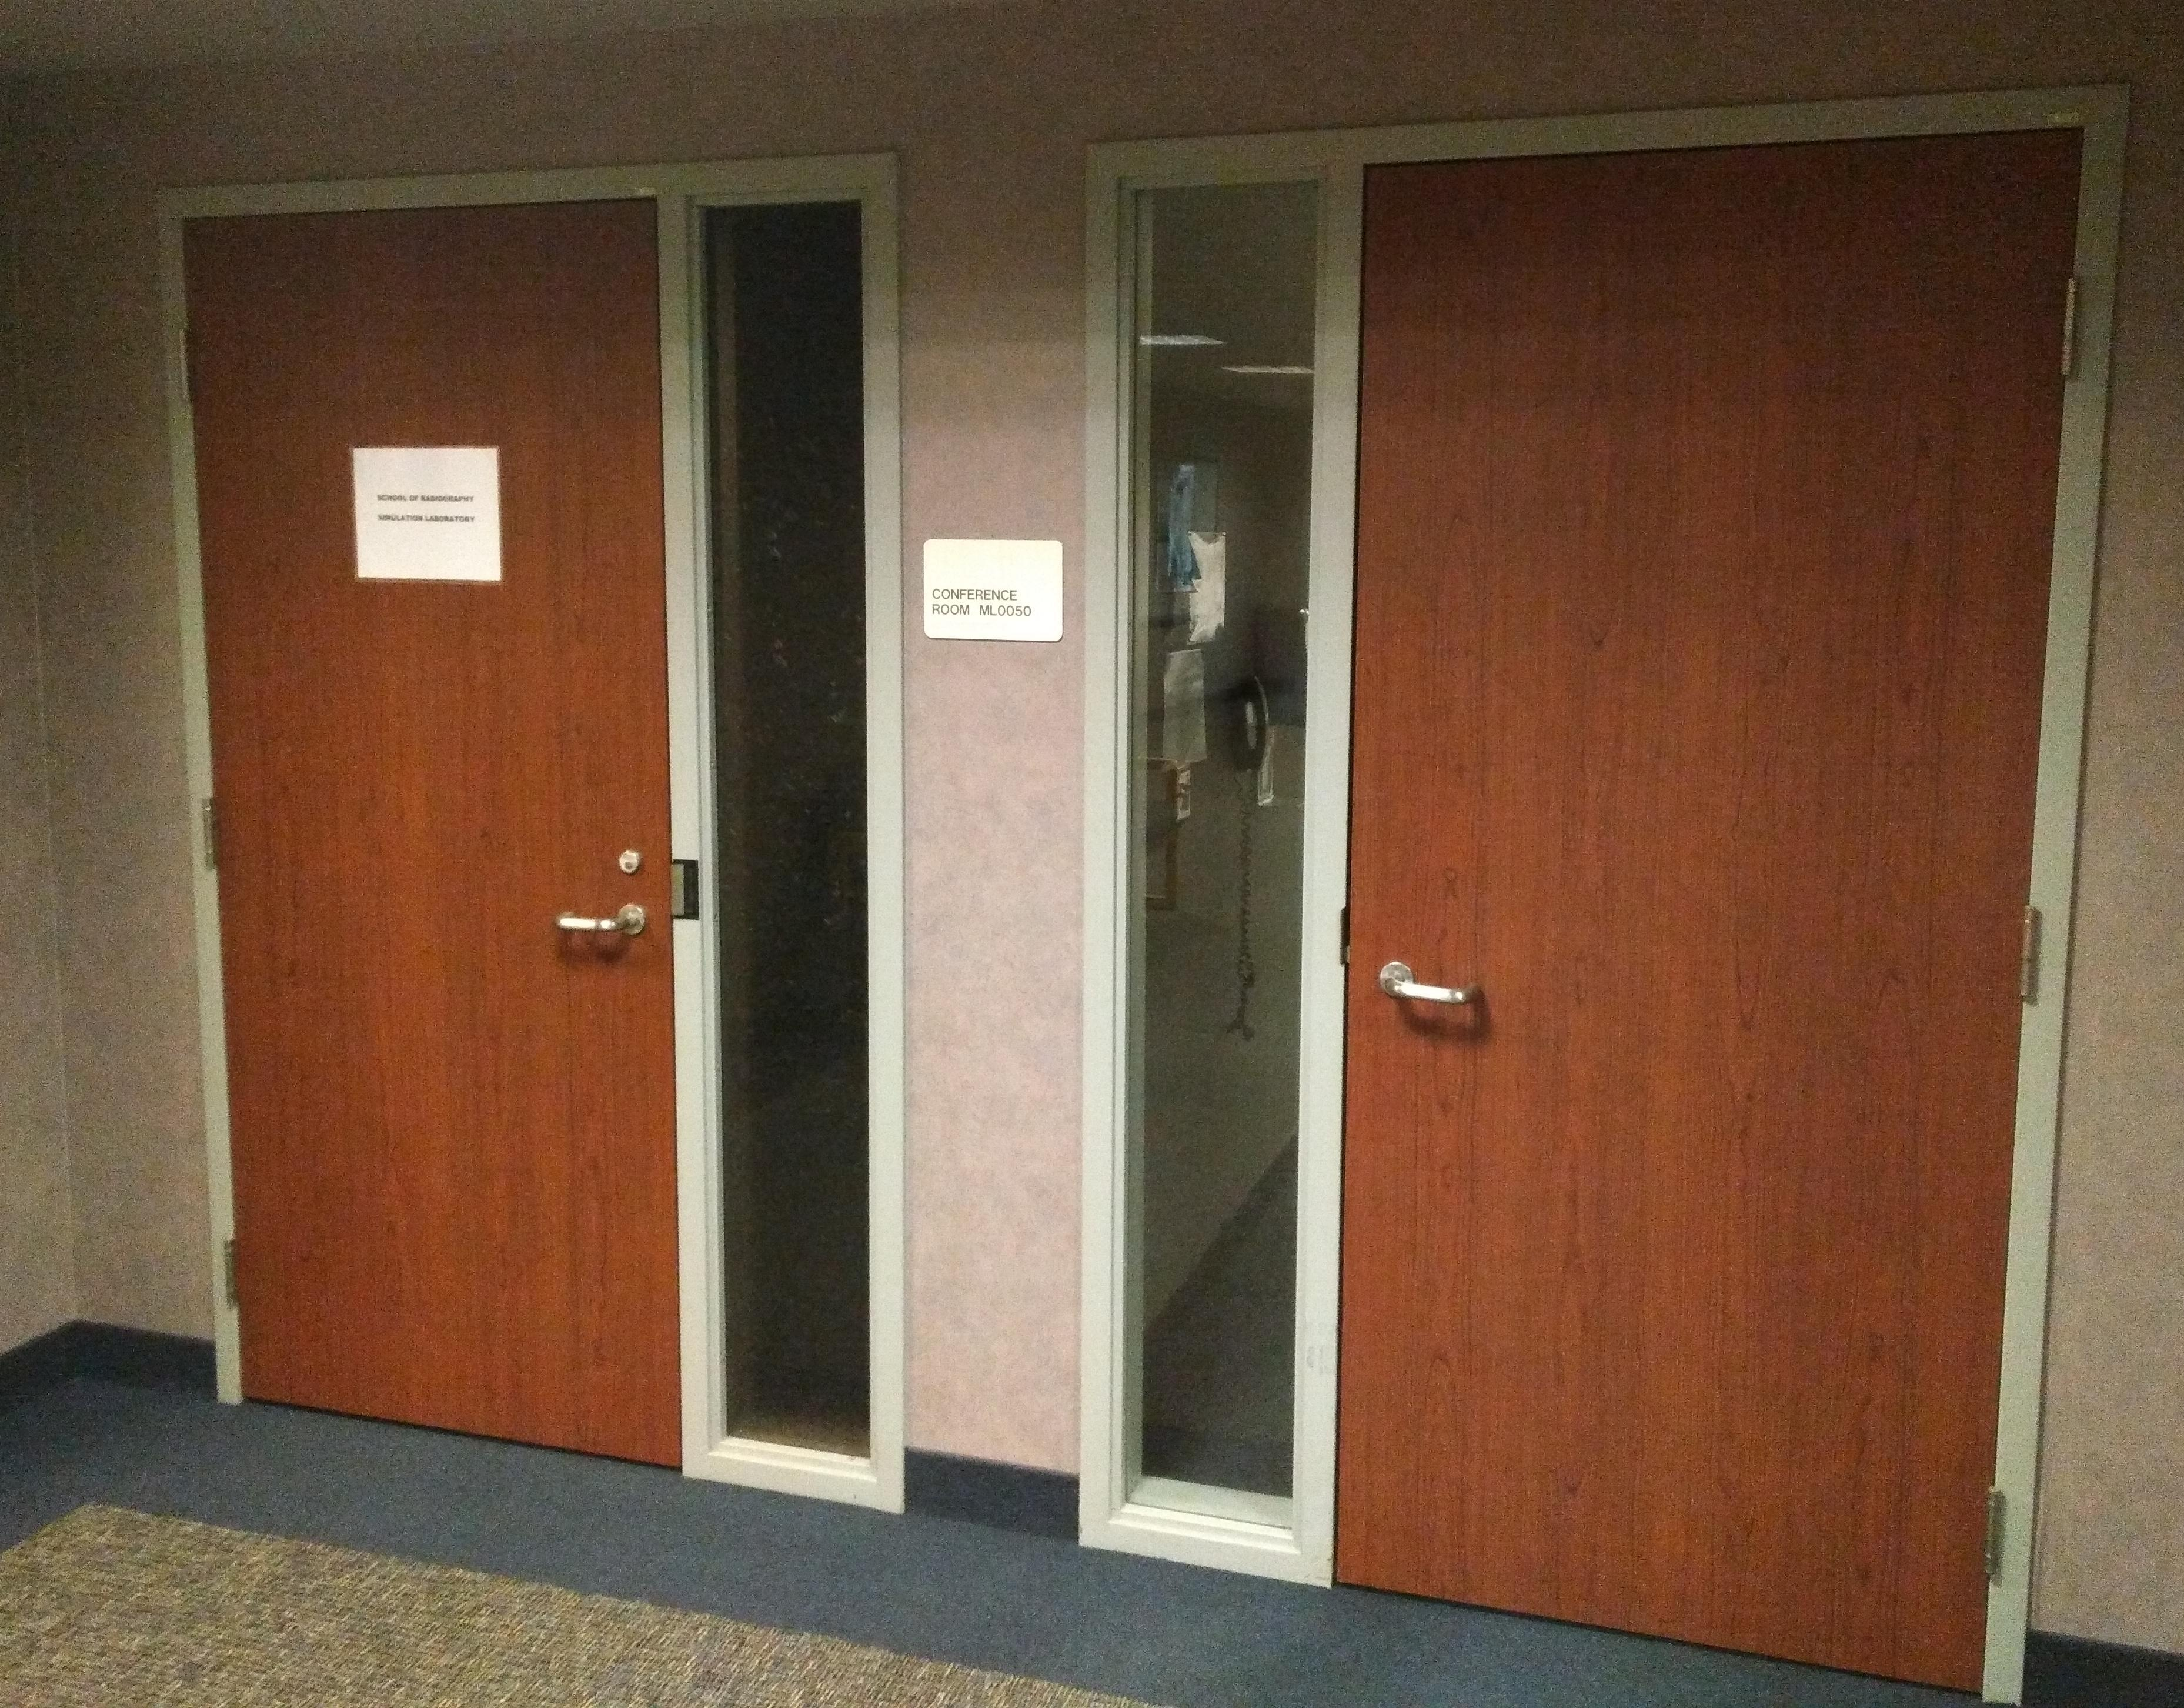door: (1292, 83, 2134, 1708), (149, 161, 716, 1483)
sign: (351, 445, 503, 582), (927, 537, 1064, 644)
